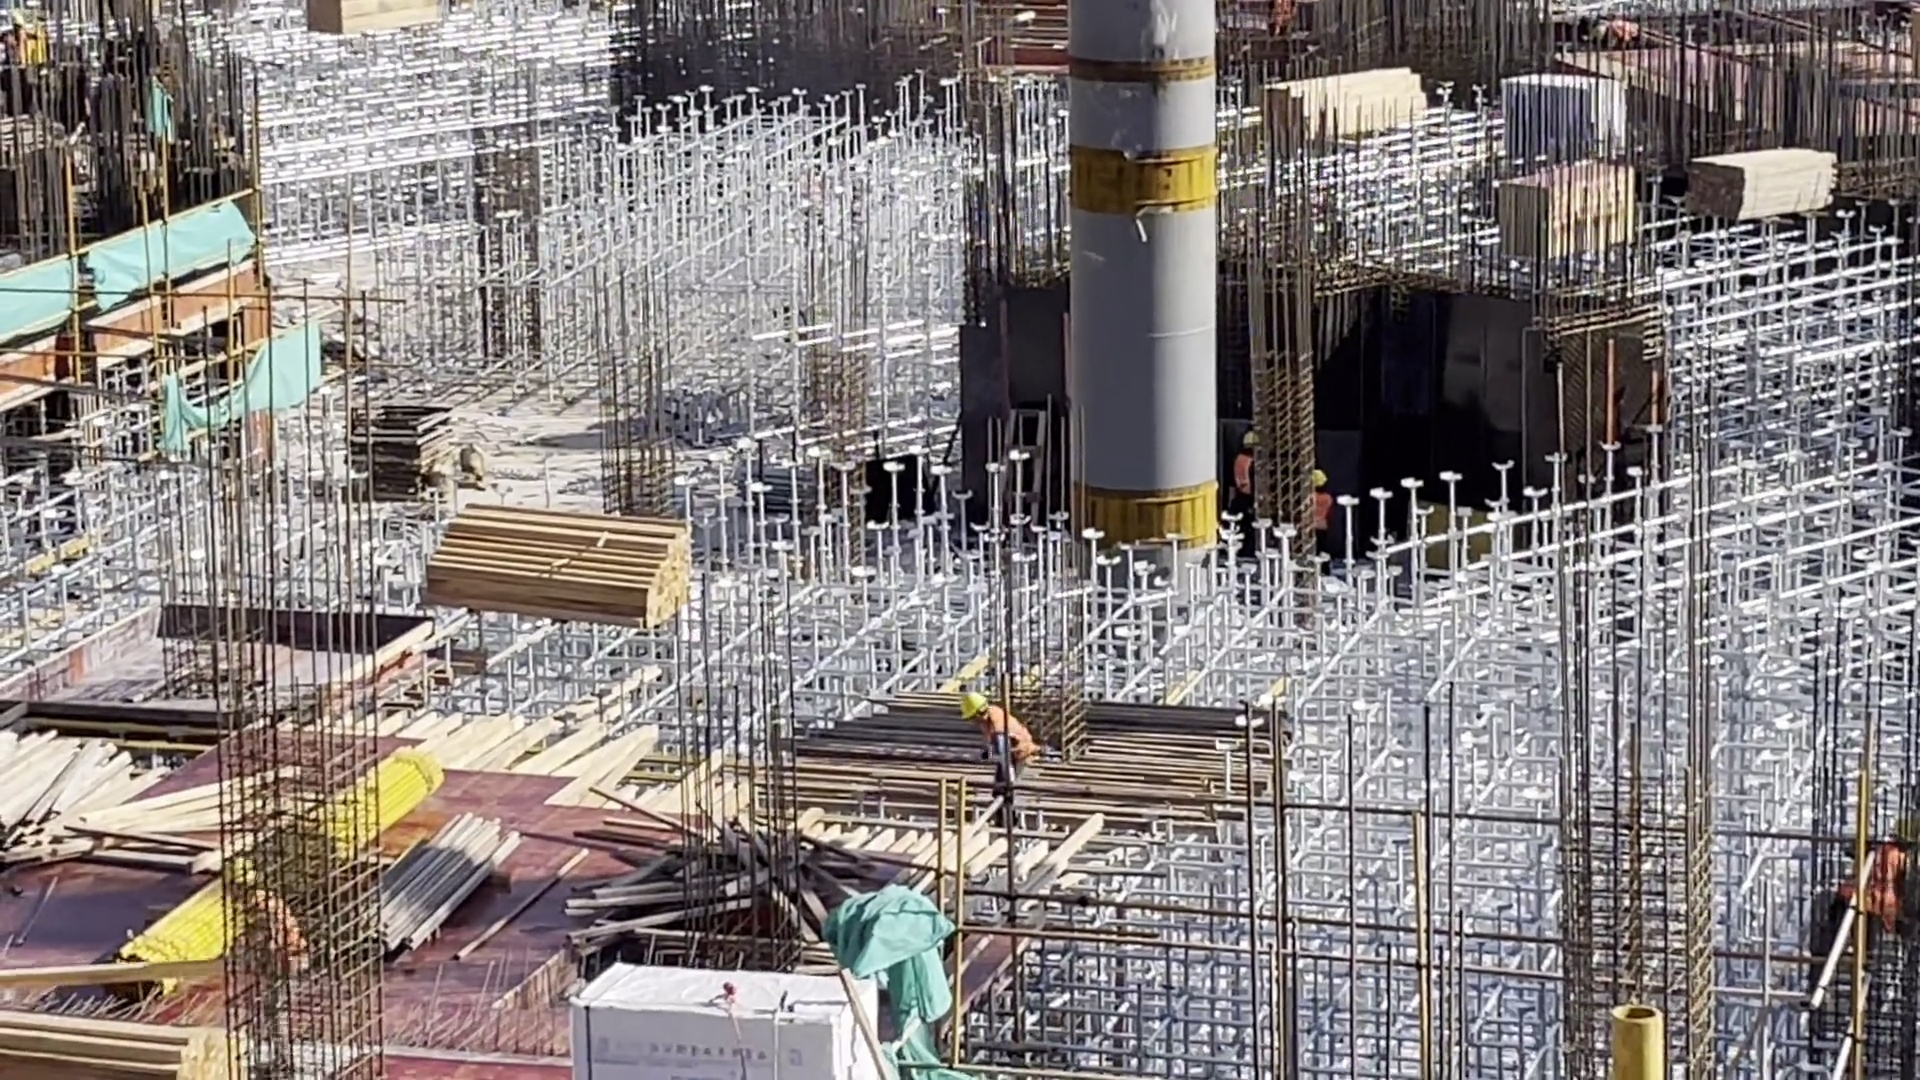person: (959, 689, 1061, 789), (1298, 465, 1333, 542), (1235, 423, 1258, 516)
rebar: (781, 684, 1289, 804)
wood: (433, 501, 708, 633), (2, 729, 204, 868), (6, 985, 237, 1080), (388, 814, 515, 951), (1265, 60, 1428, 145), (1702, 149, 1844, 224), (121, 884, 231, 961), (379, 747, 443, 823)
